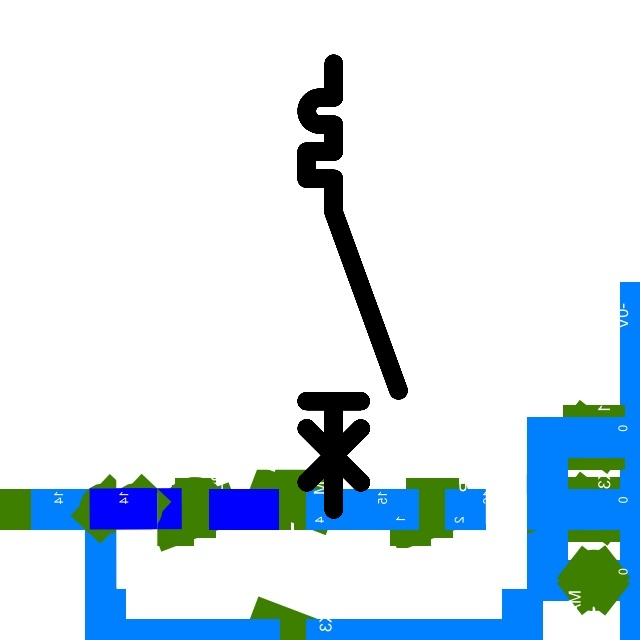interruptor_termomagnetico: (295, 52, 410, 521)
